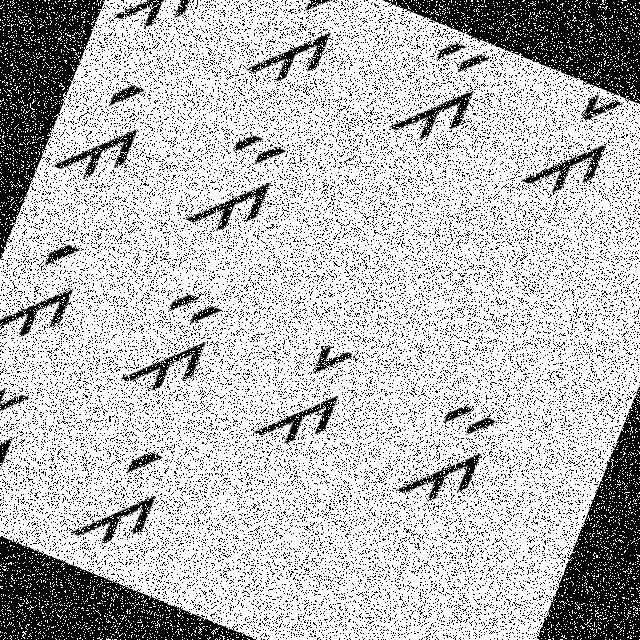kan: (168, 103, 298, 260), (388, 384, 510, 524), (381, 23, 498, 166), (113, 276, 230, 418)
kang: (36, 54, 168, 205), (58, 419, 185, 564), (0, 220, 96, 357), (106, 0, 228, 59)
kar: (251, 314, 383, 470), (502, 70, 635, 222), (231, 0, 365, 107), (0, 366, 42, 509)
